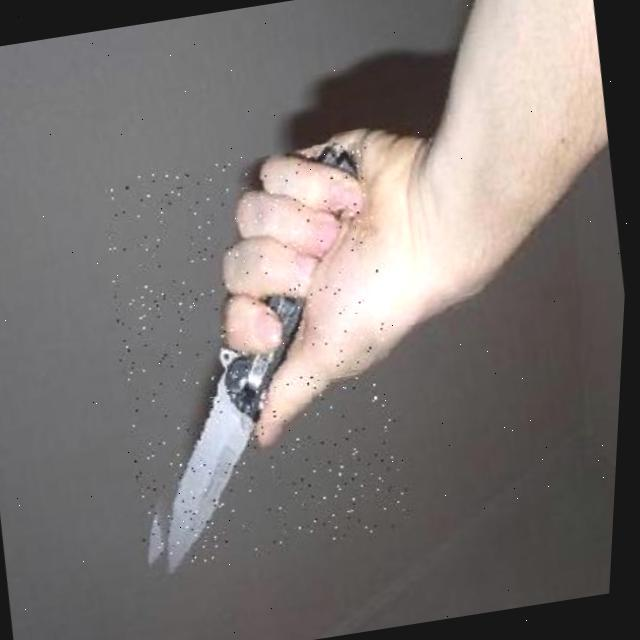knife: (86, 140, 428, 572)
